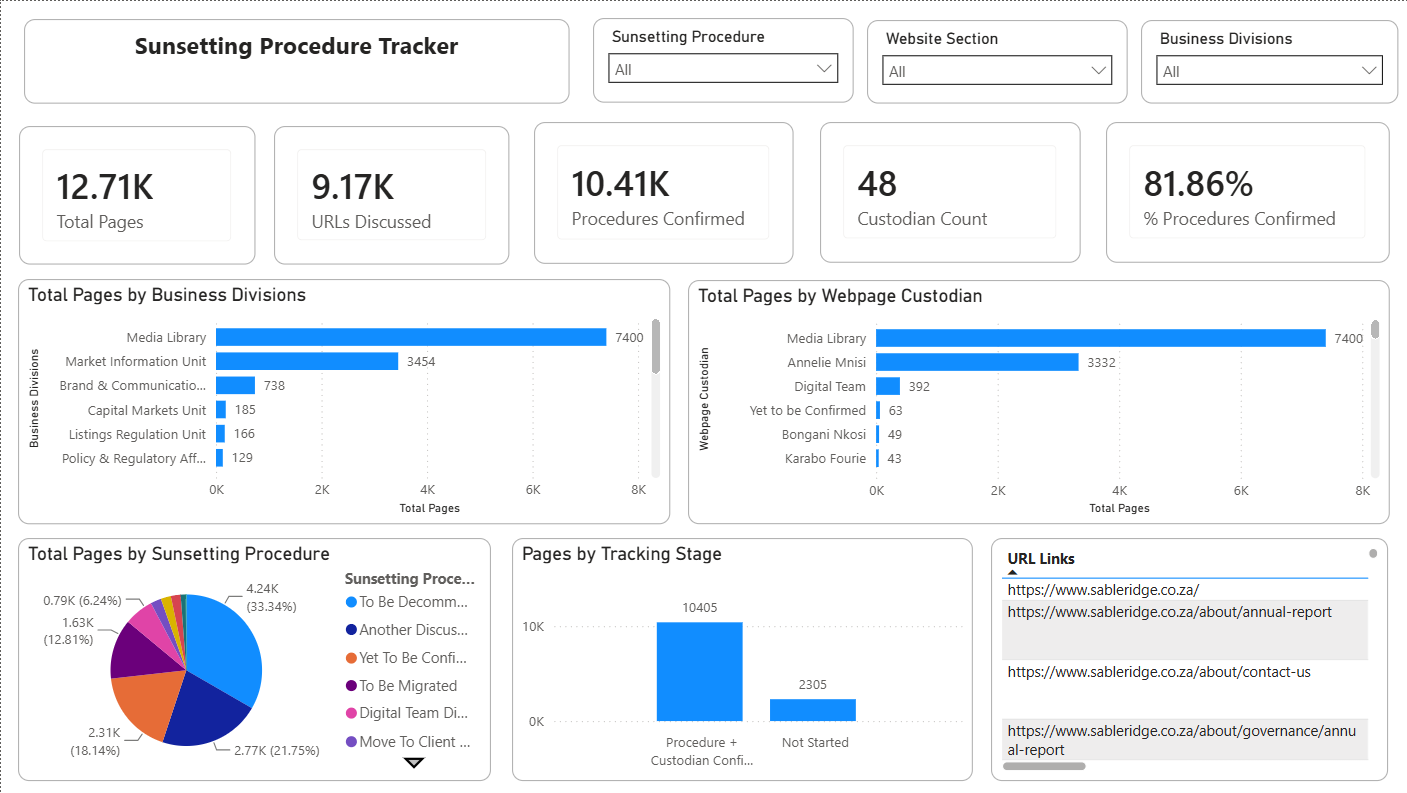

What the dashboard file says about the page in this screenshot:
{"tool":"powerbi","page":{"name":"Sunsetting Tracker","canvas":[1280,720],"ordinal":0},"visuals":[{"type":"cardVisual","fields":{"Data":["tblSOR.Total Pages"]},"box":[16,113.3,214.8,126.1],"z":0},{"type":"cardVisual","fields":{"Data":["tblSOR.URLs Discussed"]},"box":[247.8,113.3,214.4,125.6],"z":1000},{"type":"cardVisual","fields":{"Data":["tblSOR.Procedures Confirmed"]},"box":[484.4,110,235.6,128.9],"z":2000},{"type":"cardVisual","fields":{"Data":["tblWCR.Custodian Count"]},"box":[744.4,110,236.7,127.8],"z":3000},{"type":"cardVisual","fields":{"Data":["tblSOR.% Procedures Confirmed"]},"box":[1004.4,110,257.8,127.8],"z":4000},{"type":"clusteredColumnChart","title":"Pages by Tracking Stage","fields":{"Category":["tblSOR.Tracking Stage"],"Y":["tblSOR.Total Pages"]},"box":[464.3,488.6,418.6,221.4],"z":5000},{"type":"tableEx","fields":{"Values":["tblSOR.URL Links","tblSOR.Webpage Custodian","tblSOR.Sunsetting Procedure","tblSOR.Date of Sunsetting Discussion","tblSOR.Reason","tblSOR.Comments"]},"box":[900,488.6,361.4,221.4],"z":6000},{"type":"slicer","fields":{"Values":["tblWCR.Website Section"]},"box":[787.4,17.1,237.2,75.9],"z":7000},{"type":"clusteredBarChart","fields":{"Category":["tblSOR.Webpage Custodian"],"Y":["tblSOR.Total Pages"]},"box":[624.4,253.3,637.8,222.2],"z":8000},{"type":"textbox","box":[21.1,16.7,495.6,76.7],"z":9000},{"type":"slicer","fields":{"Values":["tblWCR.Business Divisions"]},"box":[1036.4,17.1,234,75.9],"z":10000},{"type":"clusteredBarChart","fields":{"Category":["tblWCR.Business Divisions"],"Y":["tblSOR.Total Pages"]},"box":[15.7,252.9,592.9,222.9],"z":11000},{"type":"slicer","fields":{"Values":["tblSOR.Sunsetting Procedure"]},"box":[537.8,15.6,236.7,76.7],"z":12000},{"type":"pieChart","fields":{"Category":["tblSOR.Sunsetting Procedure"],"Y":["tblSOR.Total Pages"]},"box":[15.7,488.6,430,221.4],"z":13000}]}

Visuals, with their boxes in screenshot pixels (x1, y1, x2, y2), scaled from the page's 1280x720 canvas onto the 1407x793 screenshot:
cardVisual - tblSOR.Total Pages: 18 125 254 264
cardVisual - tblSOR.URLs Discussed: 272 125 508 263
cardVisual - tblSOR.Procedures Confirmed: 532 121 791 263
cardVisual - tblWCR.Custodian Count: 818 121 1078 262
cardVisual - tblSOR.% Procedures Confirmed: 1104 121 1387 262
"Pages by Tracking Stage" clusteredColumnChart: 510 538 971 782
tableEx - tblSOR.URL Links x tblSOR.Webpage Custodian: 989 538 1387 782
slicer - tblWCR.Website Section: 866 19 1126 102
clusteredBarChart - tblSOR.Webpage Custodian x tblSOR.Total Pages: 686 279 1387 524
textbox: 23 18 568 103
slicer - tblWCR.Business Divisions: 1139 19 1396 102
clusteredBarChart - tblWCR.Business Divisions x tblSOR.Total Pages: 17 279 669 524
slicer - tblSOR.Sunsetting Procedure: 591 17 851 102
pieChart - tblSOR.Sunsetting Procedure x tblSOR.Total Pages: 17 538 490 782
